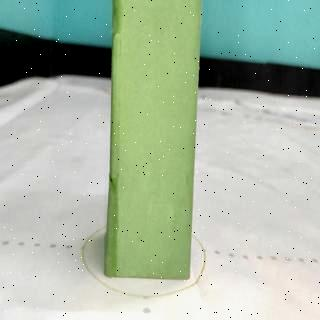greenbox: (105, 0, 202, 284)
